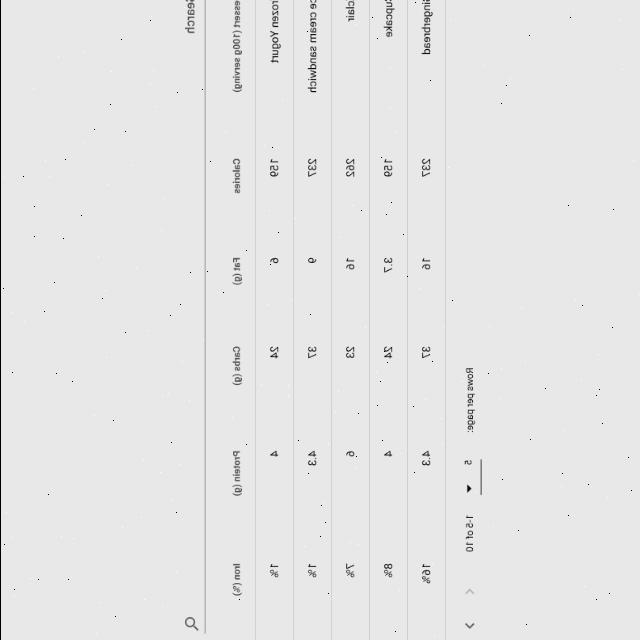VDataTable: (218, 0, 484, 640)
VTextField: (181, 1, 205, 636)
